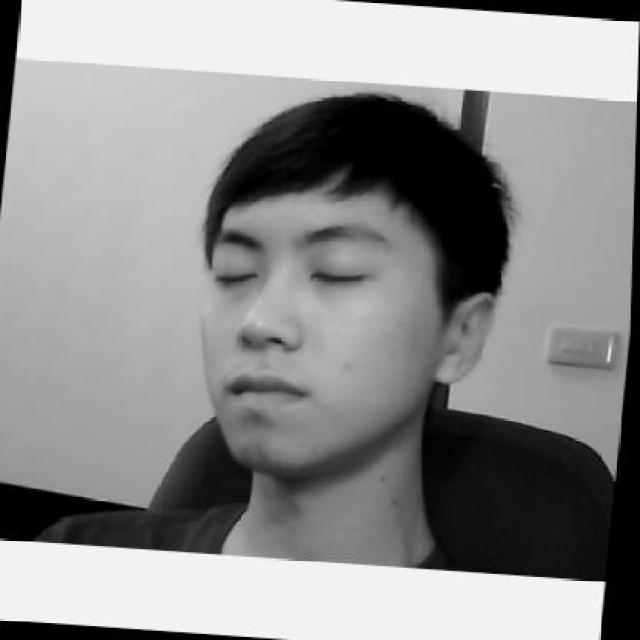inattentif: (187, 80, 518, 482)
